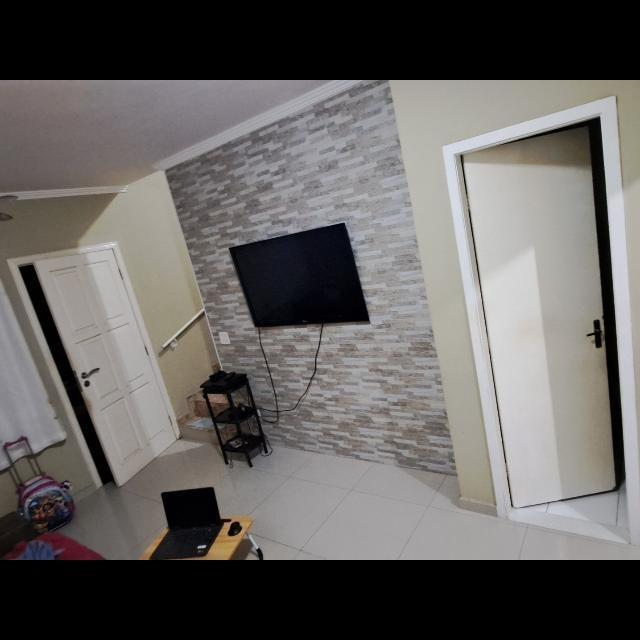door: (456, 130, 614, 518), (30, 241, 177, 486)
